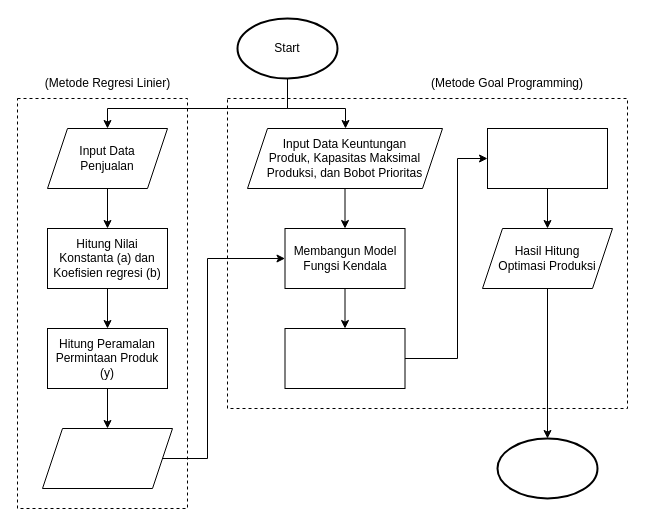
Image size: 645x526. Some labels were removed from this diagram. The box of each missing label's shape, as (x1, y1, x2, y2) in pixels:
End: (496, 437, 598, 499)
Hasil Peramalan Permintaan Produk: (42, 428, 172, 488)
Membangun Model Fungsi Tujuan: (284, 328, 405, 388)
Menghitung Penyelesaian Model: (486, 128, 608, 188)
